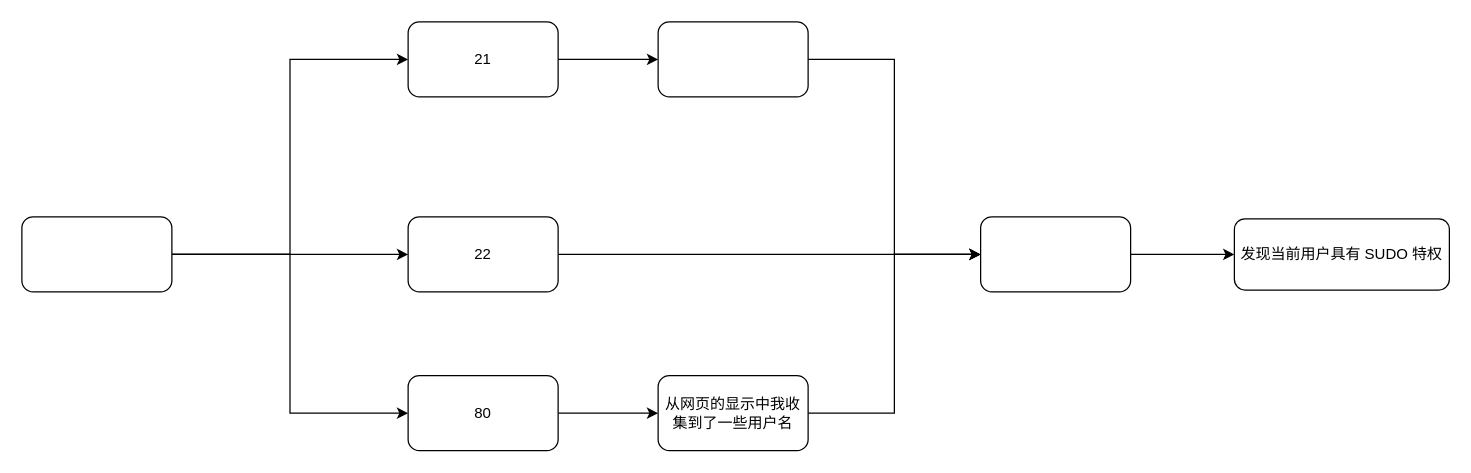
This 1471x473 diagram has some shape labels left out. The shapes that lost their labels are listed below. From the top down, each one's centre as x and y in pixels, then its label:
pixel 732 59: 存在匿名登陆,在其中发现一个密码表
pixel 96 254: 端口扫描
pixel 1055 254: 进行暴力破解, 获取到一个用户的 SSH 账户
